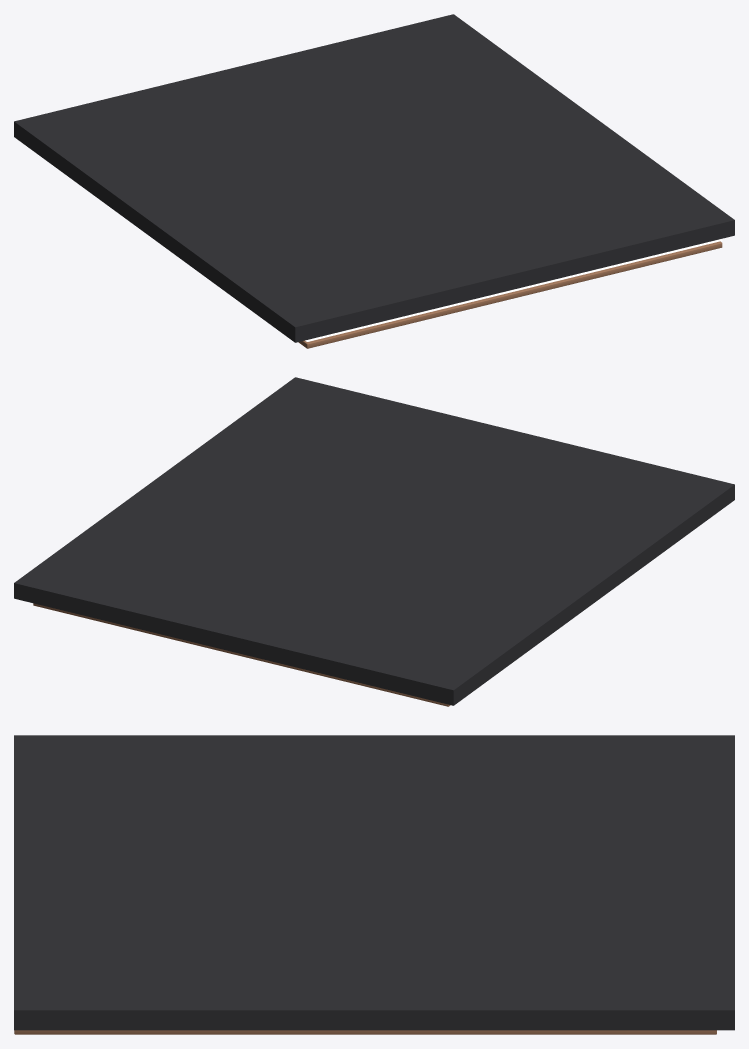
File: ceiling_DD302.glb
3 views of the same model, one above another, from view 1: azimuth 30°, elevation 25°; view 2: azimuth 150°, elevation 25°; view 3: azimuth 270°, elevation 25° (orthographic). The views are drawn at different scales.
Visible parts, largest first — view 1: Ceiling_Shell, Ceiling_Plate, Ceiling_Glow; view 2: Ceiling_Shell, Ceiling_Plate; view 3: Ceiling_Shell, Ceiling_Plate.
Part boxes in pixels (box(x1,y1,x2,y2)): Ceiling_Shell: box(14, 14, 734, 342); Ceiling_Plate: box(298, 241, 722, 348); Ceiling_Glow: box(305, 239, 722, 341); Ceiling_Shell: box(14, 377, 734, 705); Ceiling_Plate: box(33, 603, 450, 706); Ceiling_Shell: box(14, 735, 734, 1030); Ceiling_Plate: box(14, 1030, 716, 1034).
Bounding box in the file's own units: 1.48 × 0.084 × 1.64.
